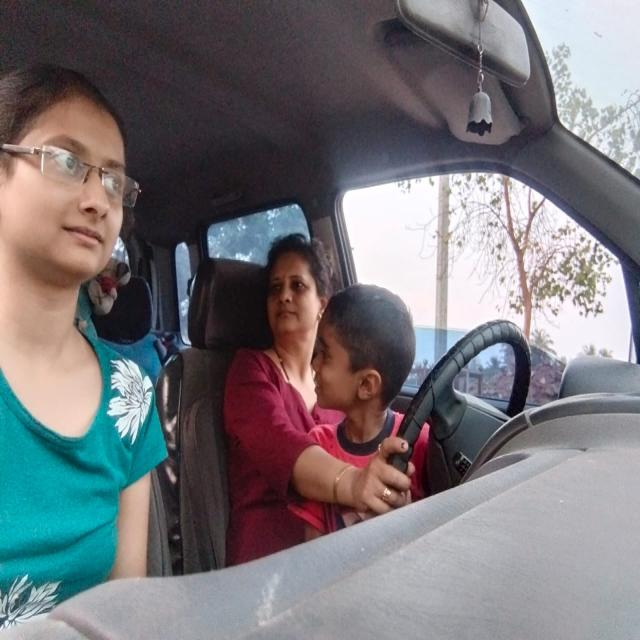child: (312, 284, 418, 424)
person: (4, 58, 141, 335), (260, 222, 330, 342)
